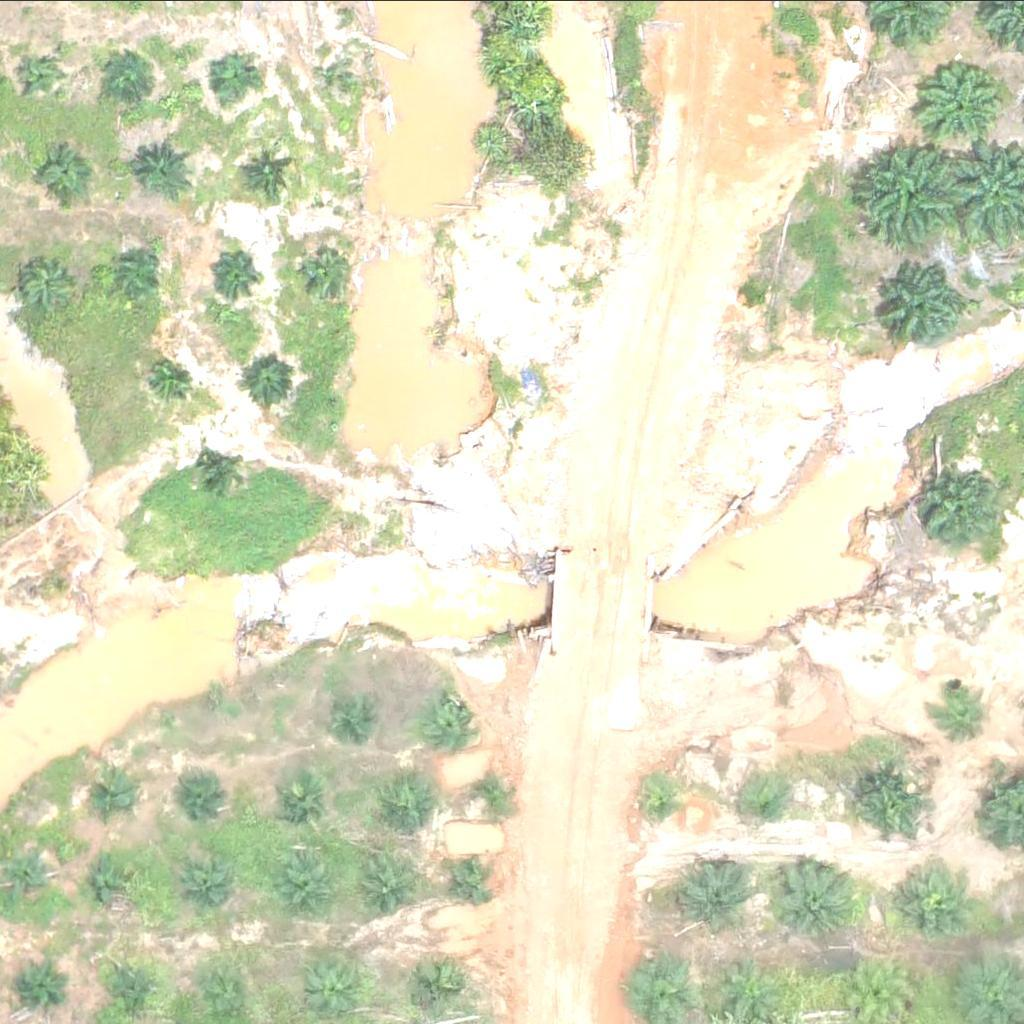Kelapa_Sawit: (856, 144, 957, 244), (921, 60, 1009, 148), (881, 261, 969, 349), (922, 463, 1010, 550), (677, 860, 753, 935), (858, 769, 934, 844), (774, 860, 850, 935), (892, 868, 967, 943), (180, 853, 243, 916), (277, 855, 340, 918), (627, 959, 690, 1022), (373, 768, 436, 831), (358, 854, 421, 917), (136, 139, 199, 202), (723, 954, 786, 1016), (310, 959, 373, 1021), (408, 954, 471, 1016), (268, 769, 331, 831), (930, 675, 993, 737), (443, 854, 494, 904), (464, 768, 515, 818), (203, 54, 254, 104), (104, 50, 155, 100), (41, 152, 92, 202), (26, 258, 77, 308), (109, 247, 160, 297), (207, 247, 258, 297), (246, 147, 297, 197), (179, 765, 229, 815), (10, 958, 60, 1008), (5, 851, 55, 901), (90, 855, 140, 905), (89, 769, 139, 819), (247, 356, 297, 406), (430, 697, 480, 747), (325, 687, 375, 737), (638, 775, 688, 825), (745, 779, 795, 829), (308, 245, 358, 295), (143, 353, 193, 403), (199, 444, 249, 494), (114, 961, 164, 1011), (20, 57, 58, 94), (323, 53, 348, 78)
